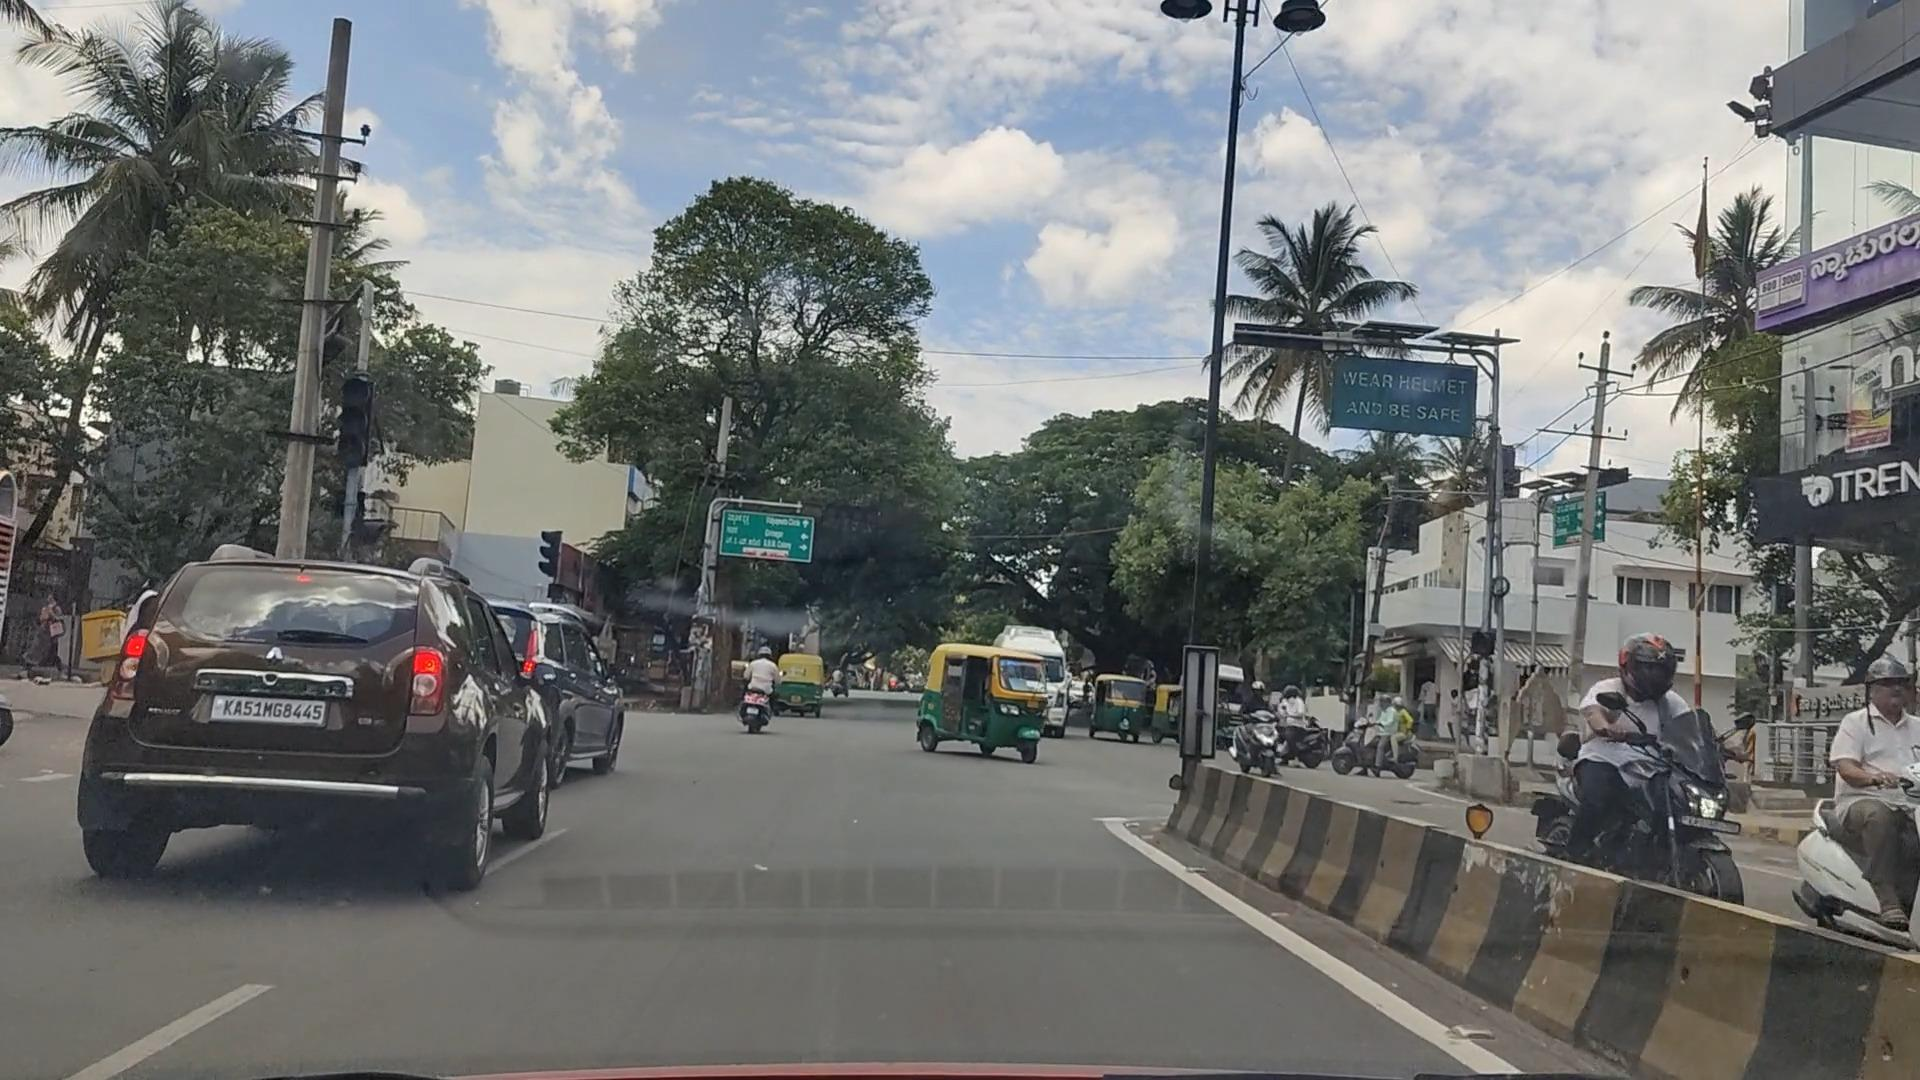LMV: (78, 574, 550, 918)
